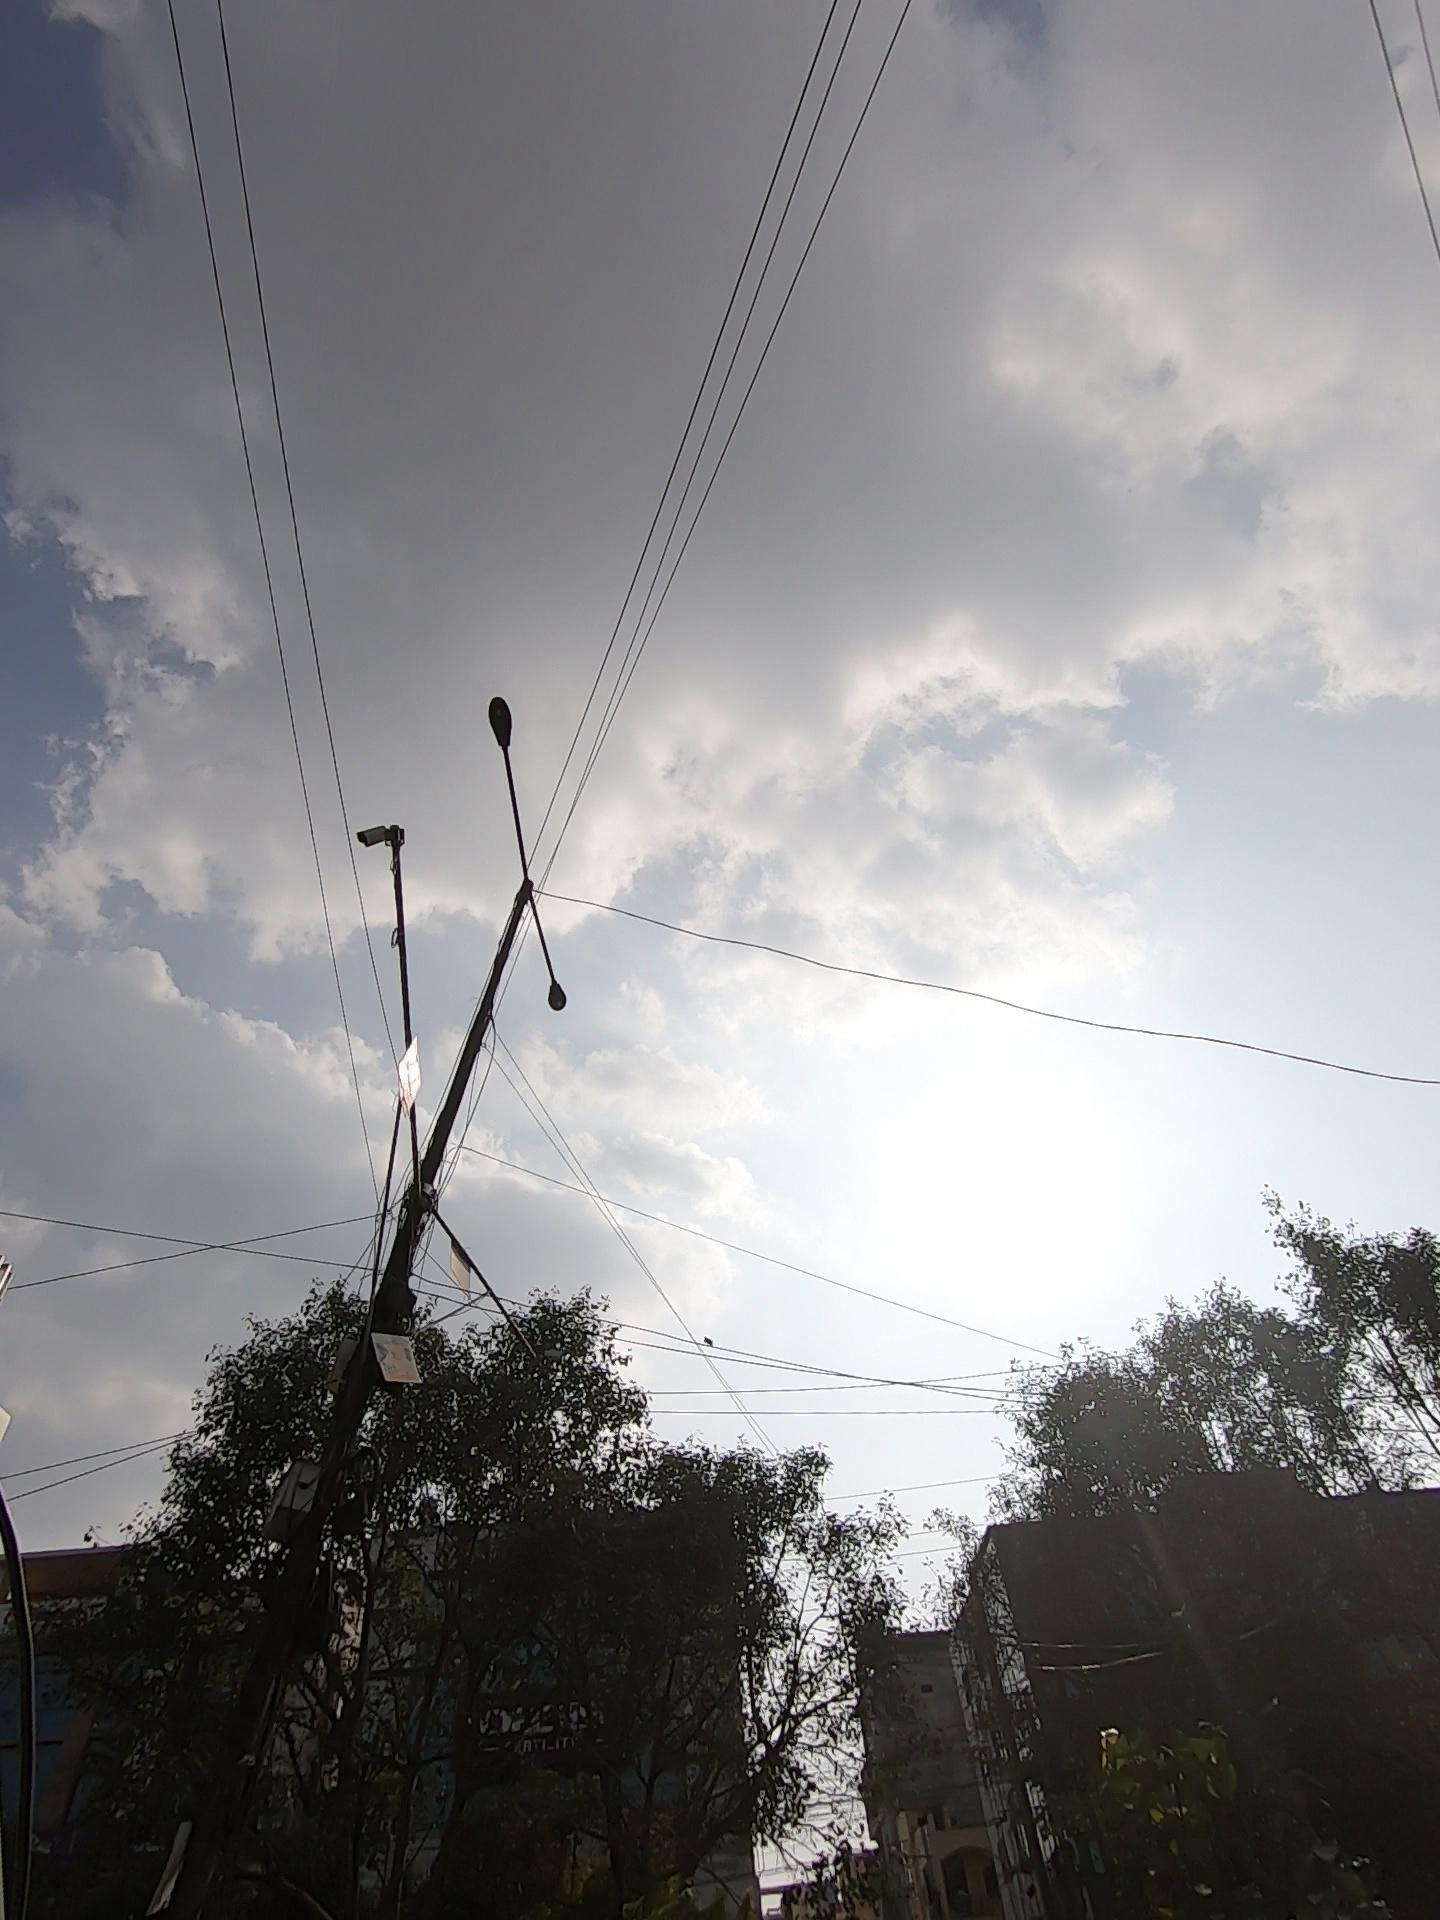off: (440, 621, 643, 1116)
